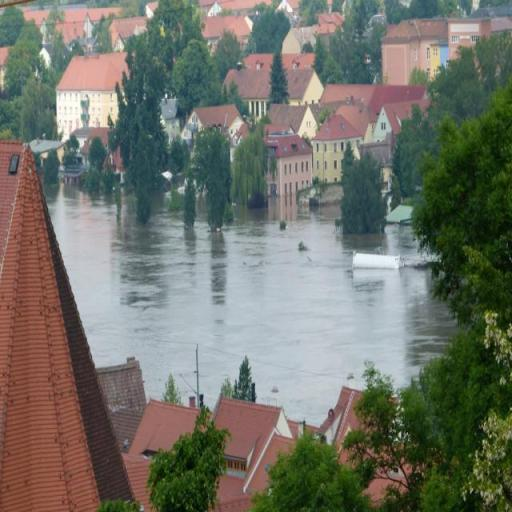flood: (42, 185, 458, 424)
house: (0, 139, 107, 511), (206, 390, 292, 502), (56, 54, 131, 147), (380, 15, 452, 89), (96, 356, 148, 446), (129, 397, 203, 458), (264, 134, 314, 218), (310, 385, 360, 456), (372, 84, 426, 144), (187, 101, 253, 148), (316, 115, 360, 180), (233, 56, 272, 114), (266, 101, 316, 137), (286, 62, 325, 107), (198, 16, 254, 46), (110, 13, 147, 51), (451, 17, 491, 45), (280, 24, 318, 53)
